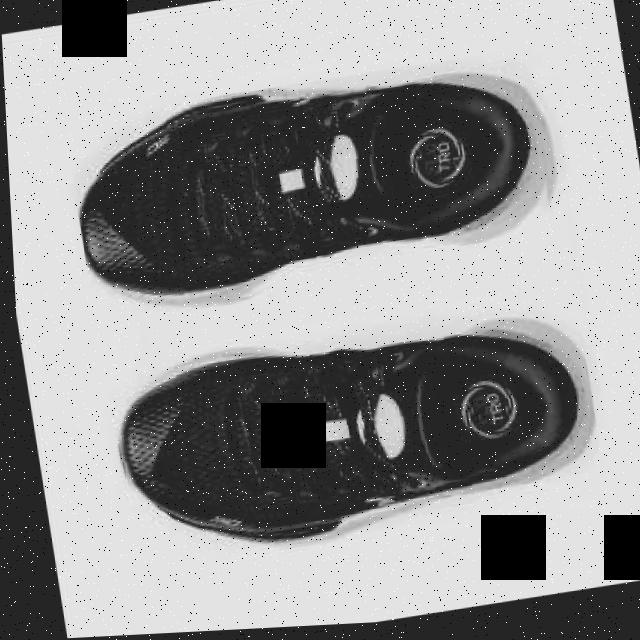shoe: (98, 299, 604, 575), (60, 52, 563, 324)
